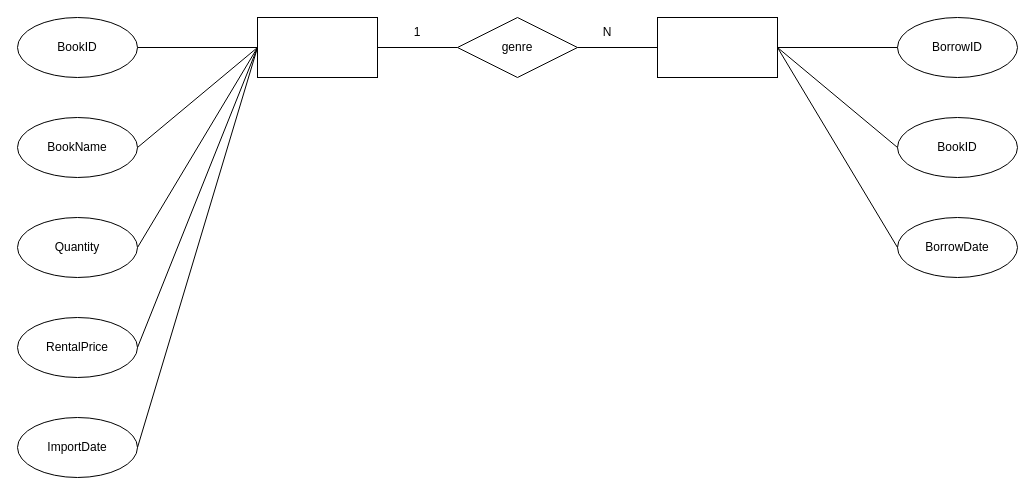
This 1035x495 diagram has some shape labels left out. Each missing label, with the centre of its shape:
"BOOK" belongs at point (317, 47).
"CUSTOMERS" belongs at point (717, 47).
